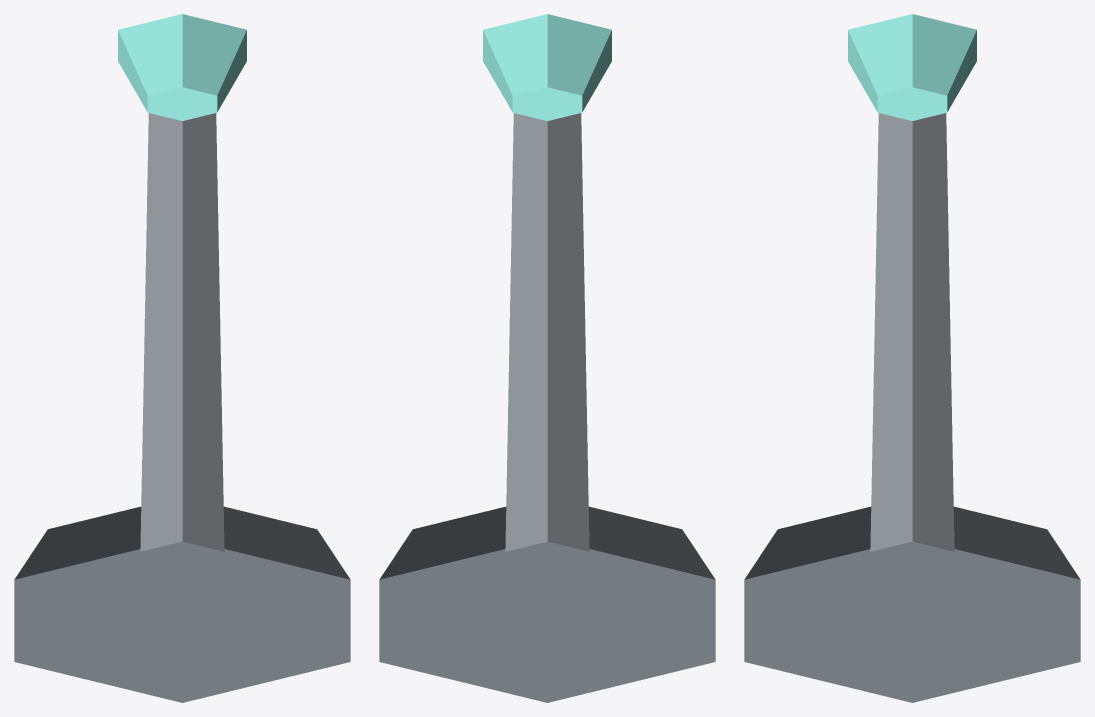
File: auroraPadBeacon.c94a5b6b.glb
3 views of the same model, side by side, from view 1: azimuth 30°, elevation 25°; view 2: azimuth 150°, elevation 25°; view 3: azimuth 270°, elevation 25° (orthographic).
Visible parts, largest first — view 1: base, pylon, lamp; view 2: base, pylon, lamp; view 3: base, pylon, lamp.
Boxes of the visible parts, x1=… form: base: x1=14, y1=506, x2=350, y2=702; pylon: x1=140, y1=113, x2=224, y2=551; lamp: x1=118, y1=14, x2=246, y2=120; base: x1=379, y1=506, x2=715, y2=702; pylon: x1=505, y1=113, x2=589, y2=551; lamp: x1=483, y1=14, x2=611, y2=120; base: x1=744, y1=506, x2=1080, y2=702; pylon: x1=870, y1=113, x2=954, y2=551; lamp: x1=848, y1=14, x2=976, y2=120.
Size of the model in its own units: 0.6 by 0.98 by 0.5196.
